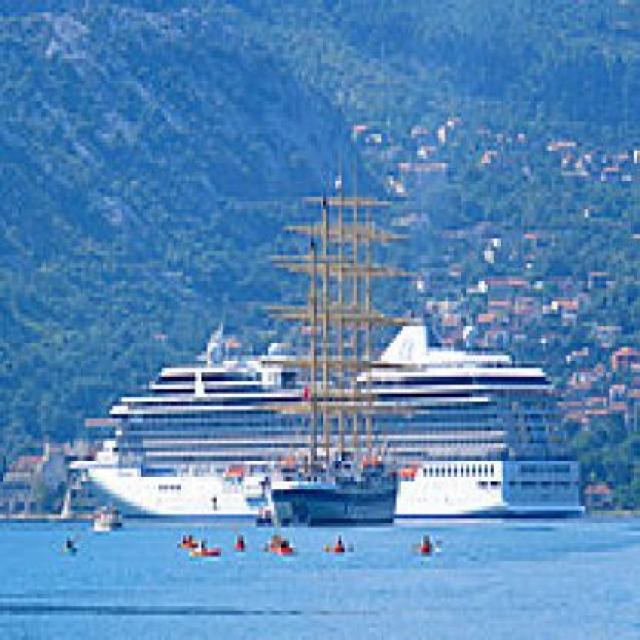cruise: (62, 311, 599, 537)
